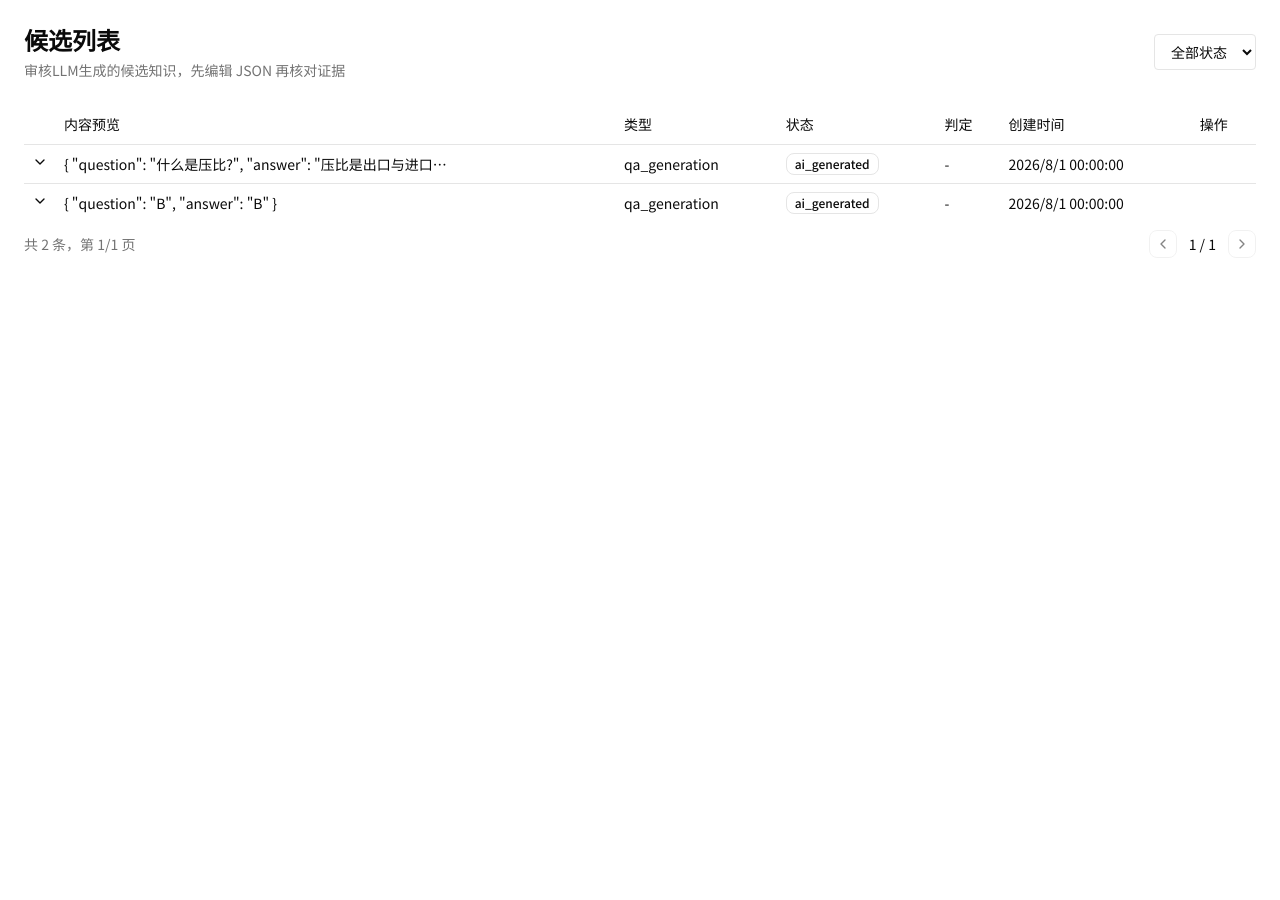
Test case: 候选审核页 › 快速切换候选时，迟到的旧来源响应不能覆盖当前候选
Check: the text "{ \"question\": \"什么是压比?\", \"answer\": \"压比是出口与进口压力之比\" }" is shown, box x1=64 y1=154 x2=448 y2=174
Click the button with test id "expand-cand-1".
click(40, 162)  # box x1=32 y1=154 x2=48 y2=170
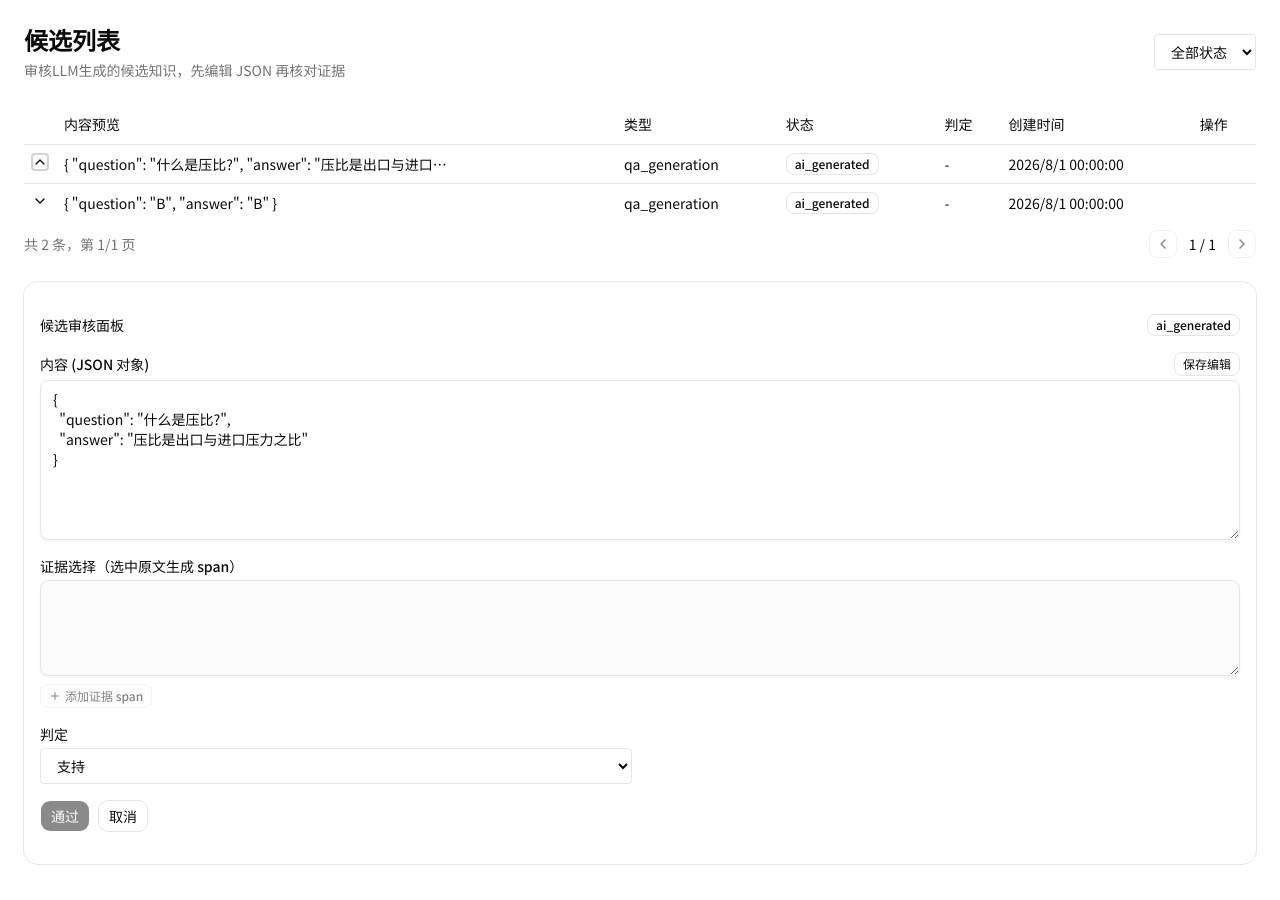
Click the button with test id "expand-cand-2".
click(40, 200)  # box x1=32 y1=192 x2=48 y2=208
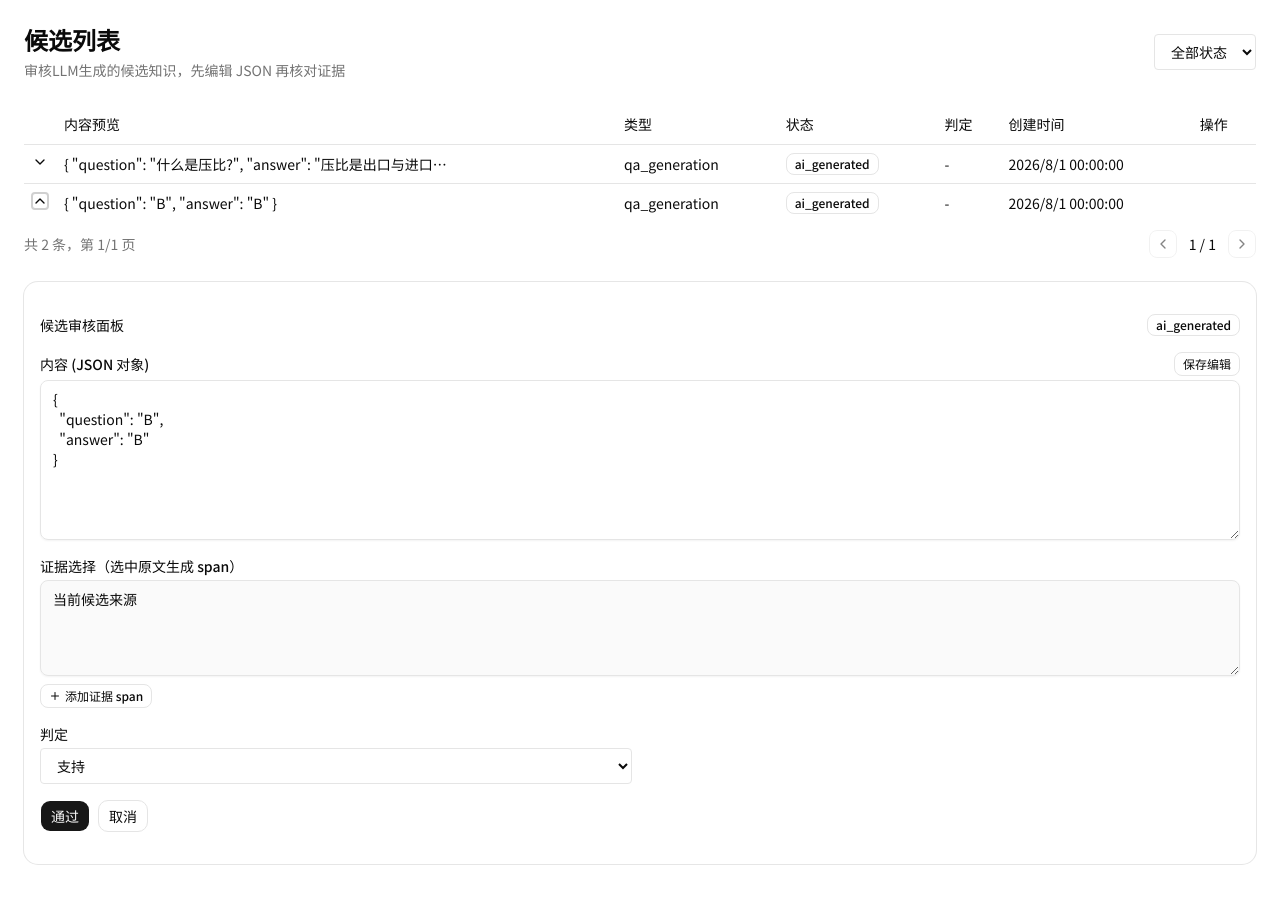
Check: the text box with test id "chunk-text" holds "当前候选来源", box x1=40 y1=580 x2=1240 y2=676
